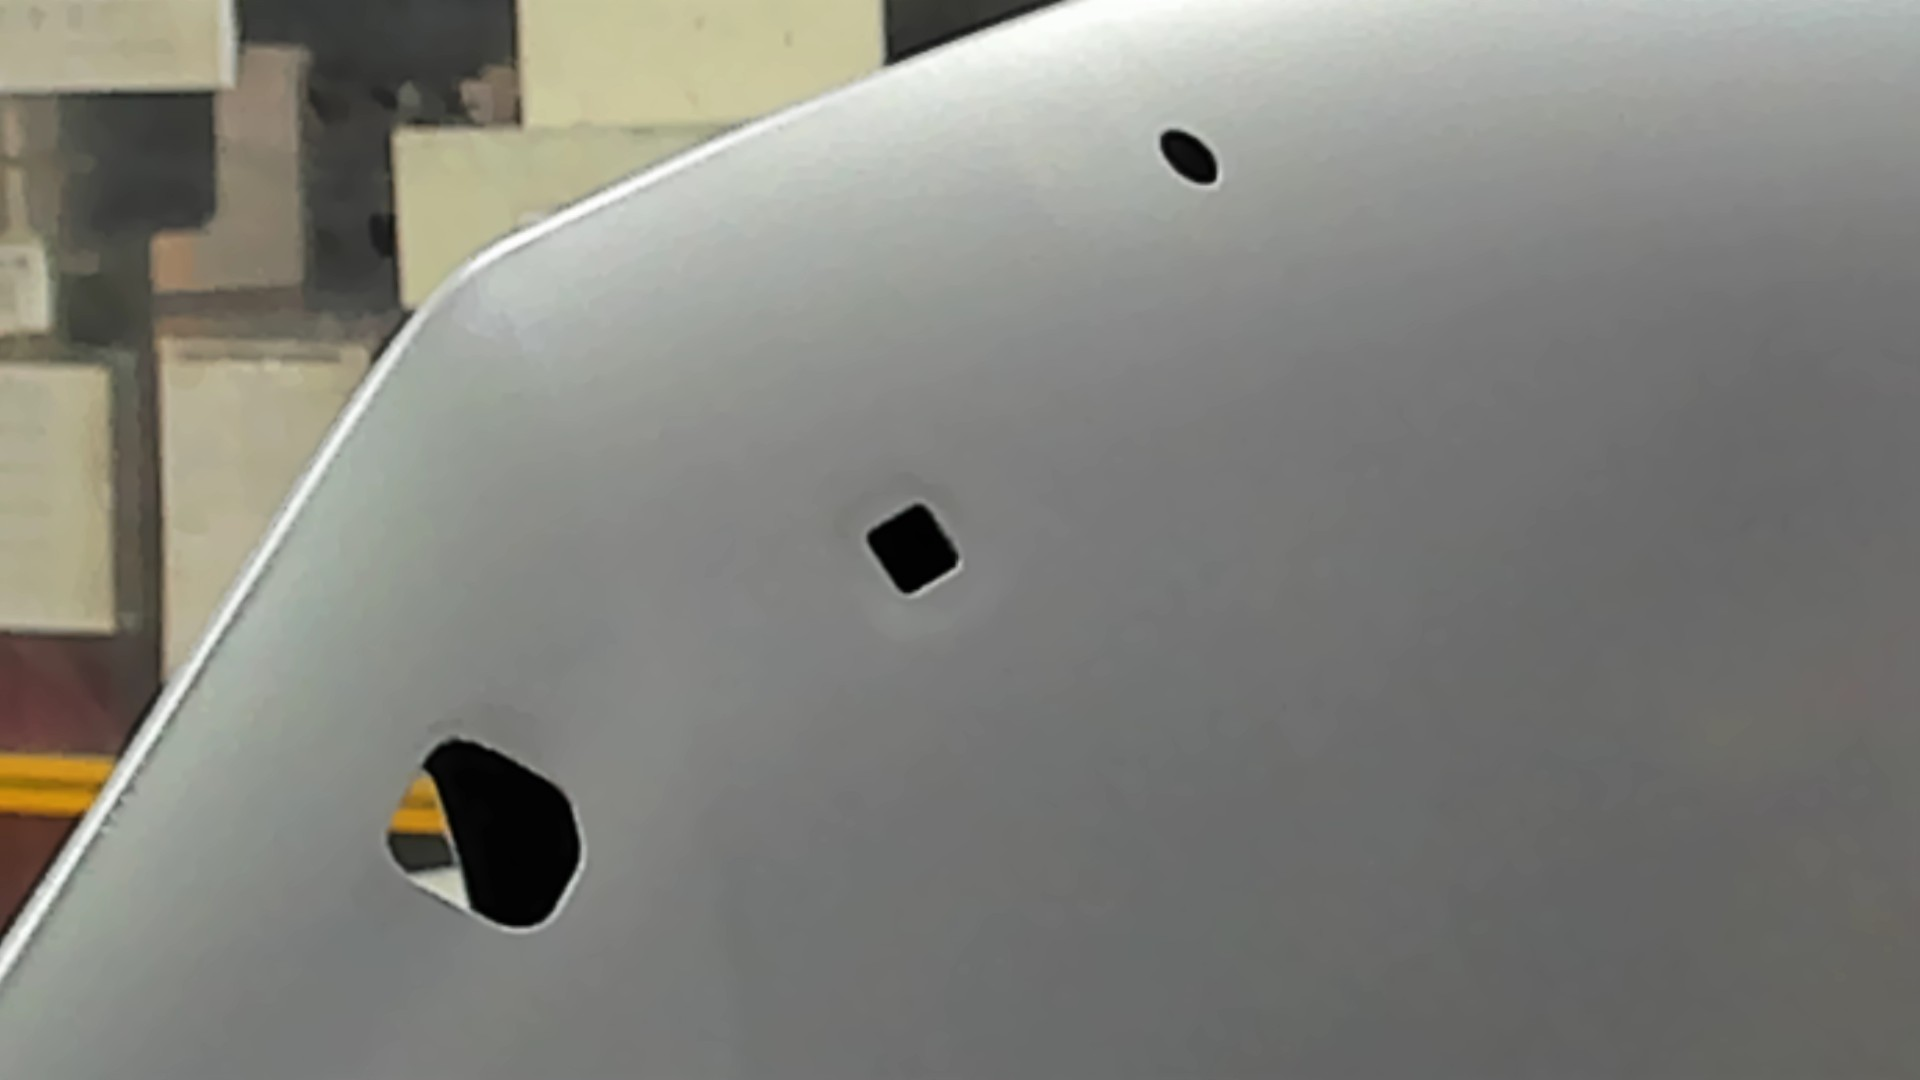chico: (1151, 123, 1228, 195)
grande: (377, 727, 597, 945)
mediano: (856, 491, 971, 609)
